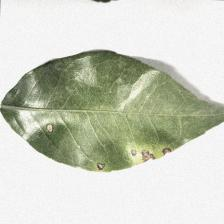canker: (43, 114, 176, 170)
